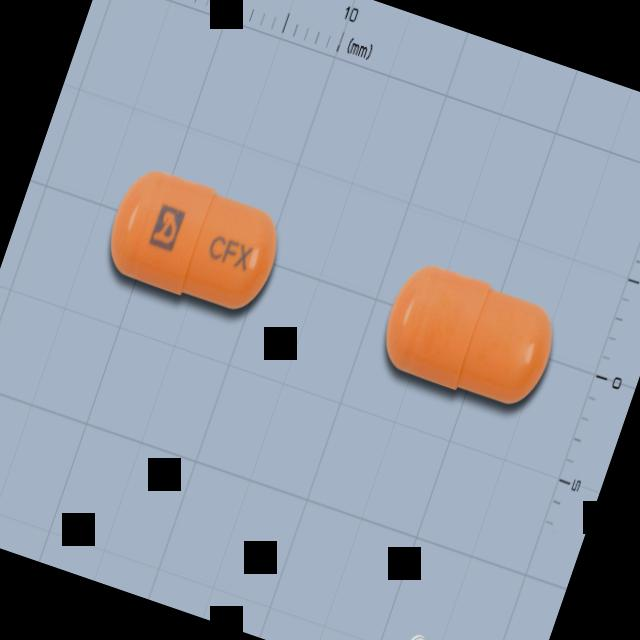Dongkoo Cefixime Hydrate Cap: (97, 160, 291, 320)
